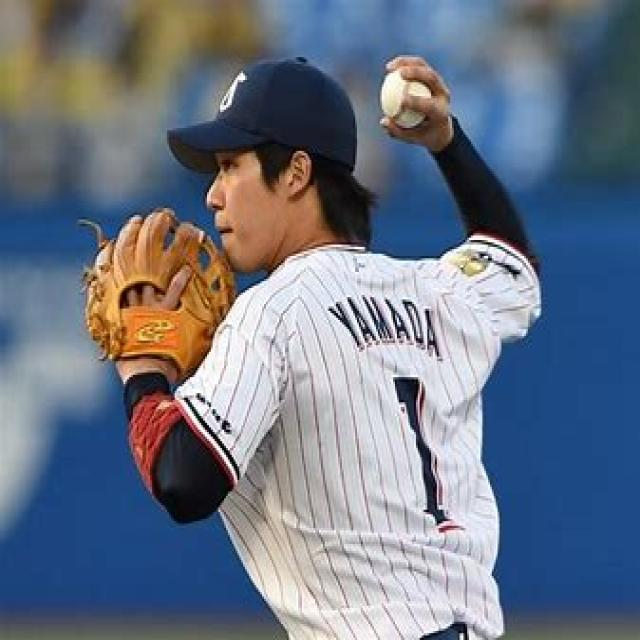glove: (72, 202, 240, 380)
